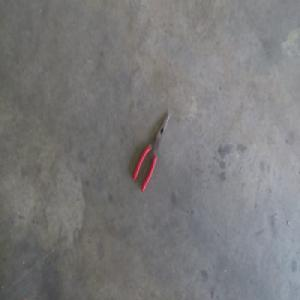Pliers: (131, 112, 170, 193)
